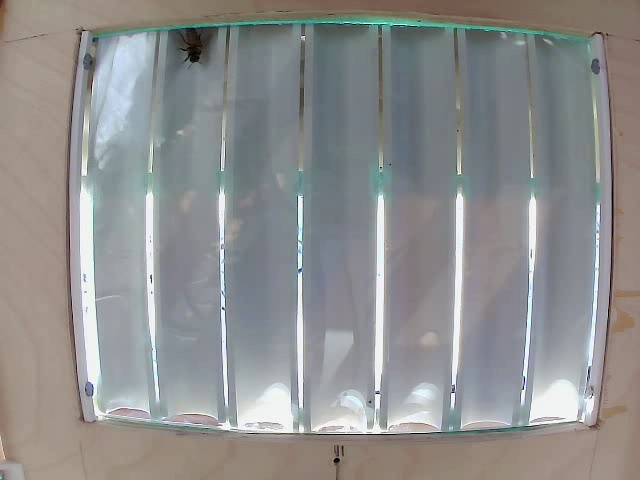bee: (185, 30, 220, 65)
